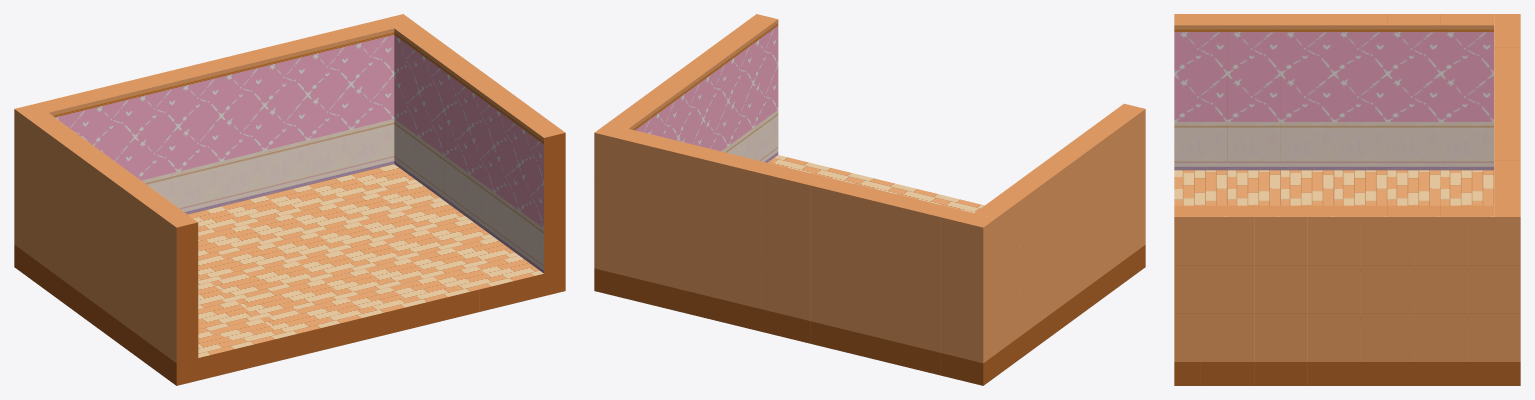
The model's file is quartoMesh.fbx.
The picture shows the model from 3 angles, left to right: view 1: azimuth 30°, elevation 25°; view 2: azimuth 150°, elevation 25°; view 3: azimuth 270°, elevation 25°; orthographic projection. The views are drawn at different scales.
Parts seen in each view (by area): view 1: Room; view 2: Room; view 3: Room.
Boxes of the visible parts, box(x1,y1,x2,y2) form: Room: box(14, 14, 565, 385); Room: box(594, 14, 1145, 385); Room: box(1174, 14, 1520, 385).
Size of the model in its own units: 900 by 350 by 650.
